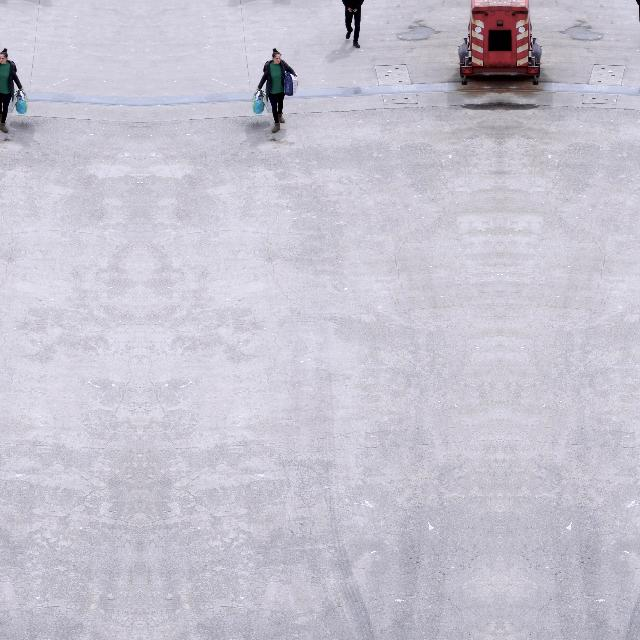person: (256, 47, 298, 133), (0, 47, 23, 133), (342, 0, 364, 48), (635, 0, 640, 48)
